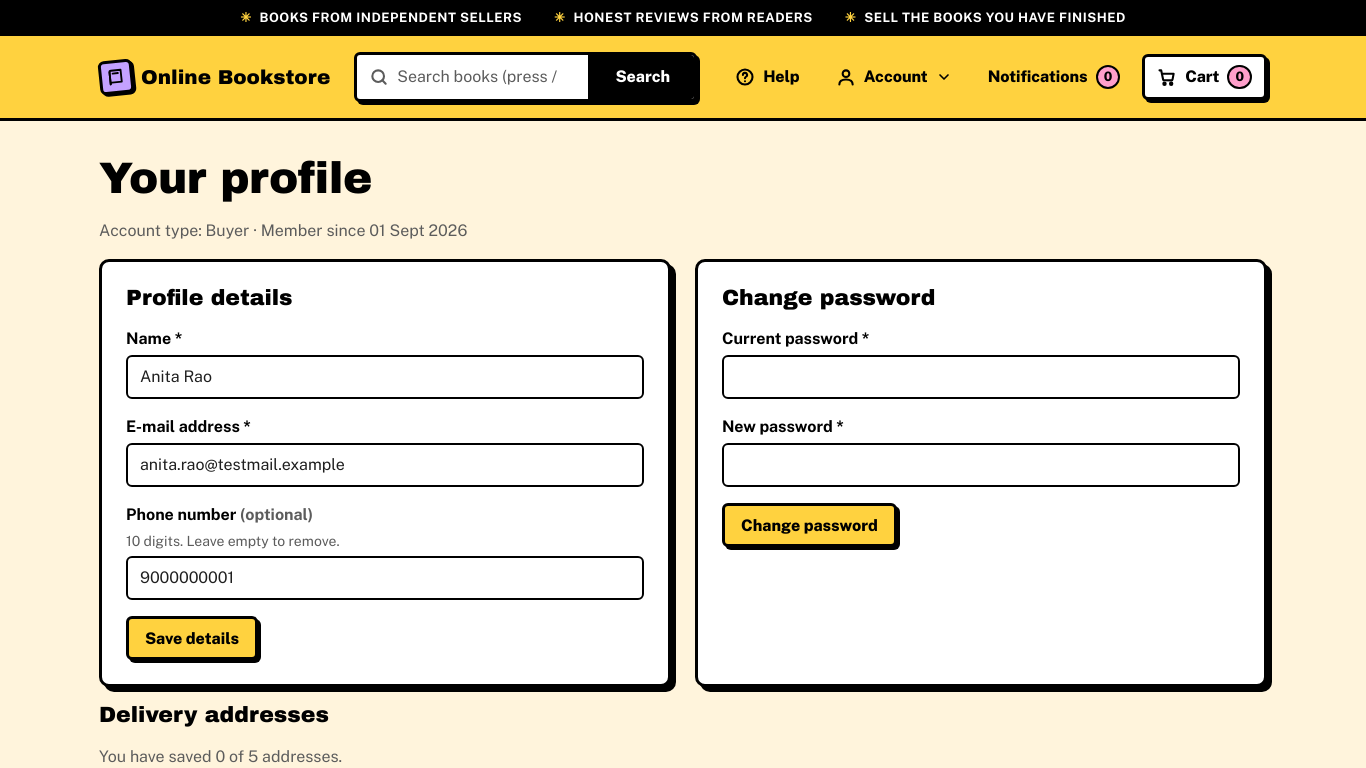
Profile page › TC-ST03-03: an empty name shows an inline error and nothing is sent
Step 1. Clear the field labelled "Name *" → {"x": 385, "y": 377}, box [126,355,644,399]
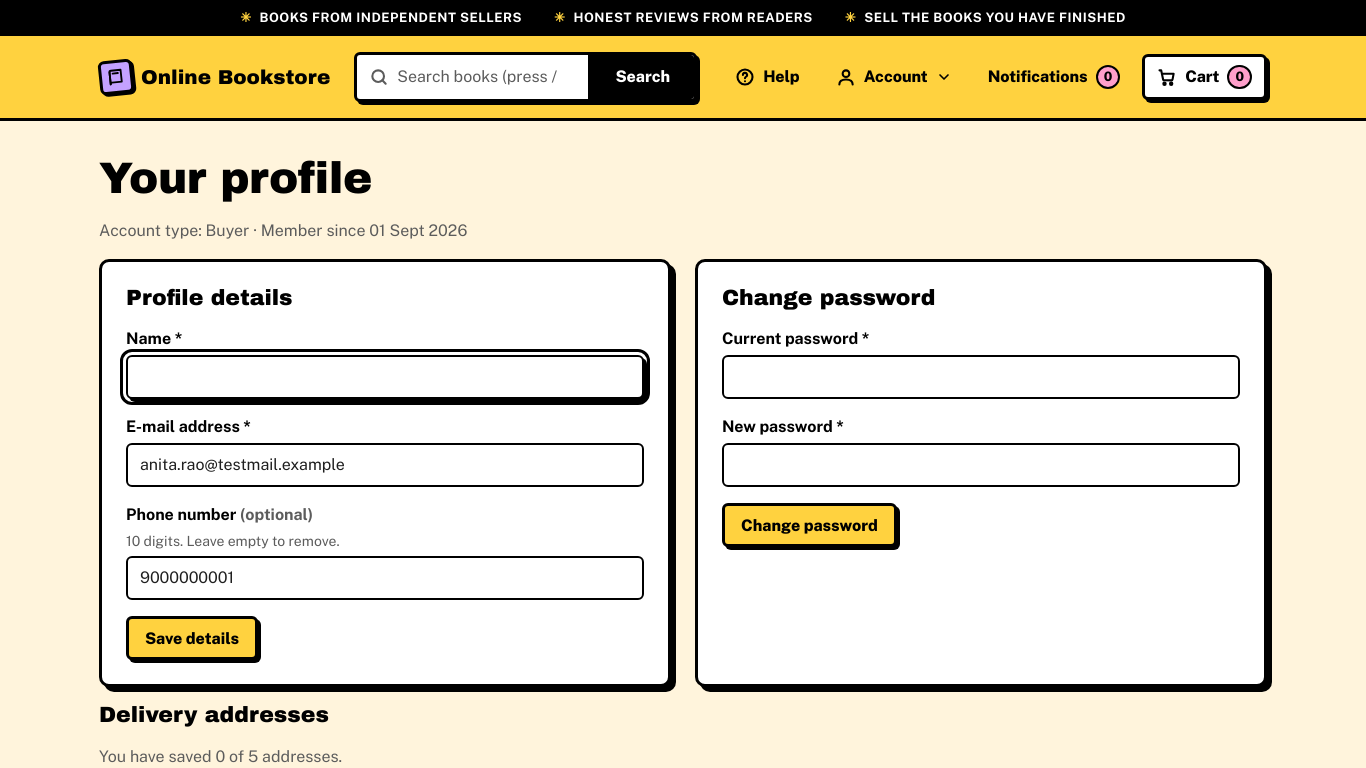
Step 2. Click the button "Save details" → {"x": 192, "y": 638}, box [126,616,258,660]
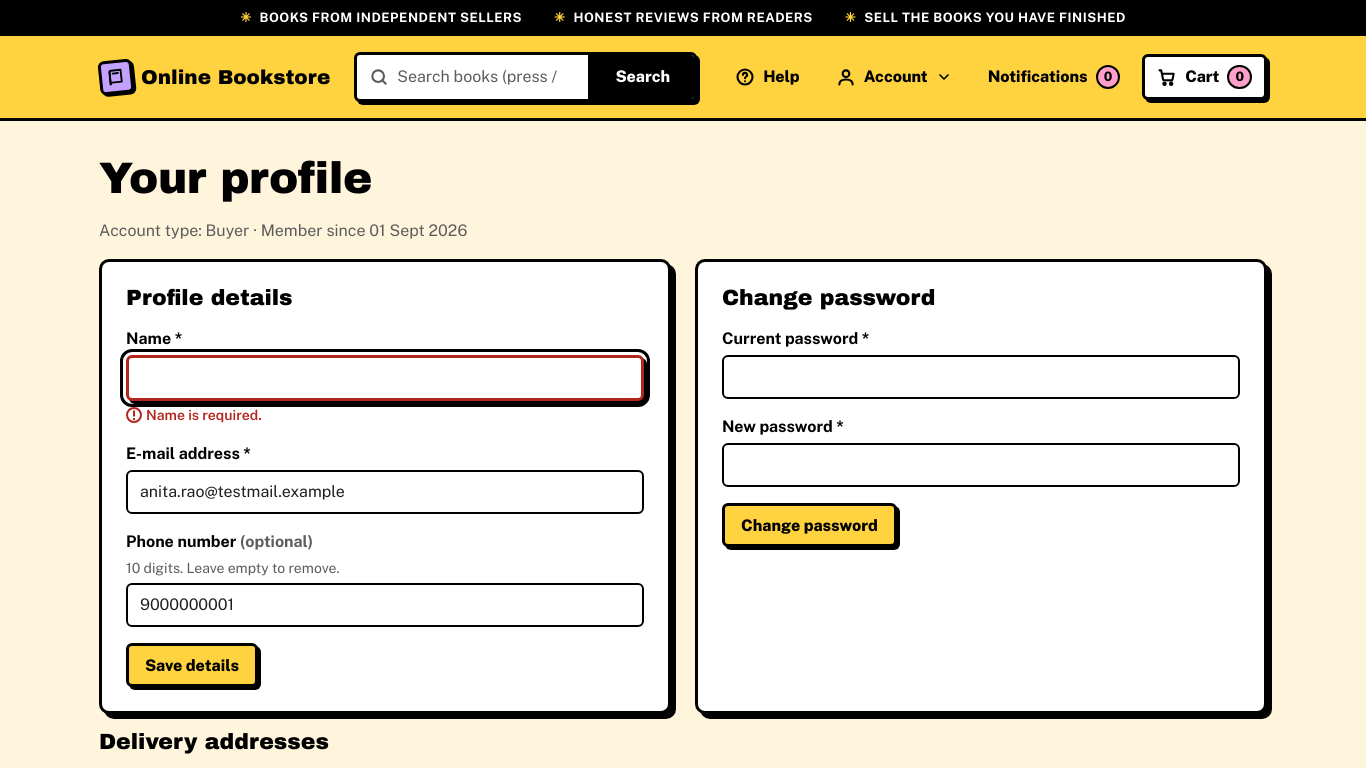
Result: the text "Name is required." is shown at [146,405,262,426]
